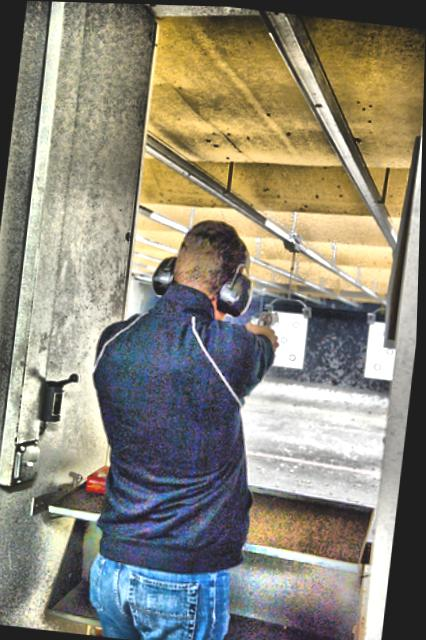pistol: (259, 307, 275, 327)
